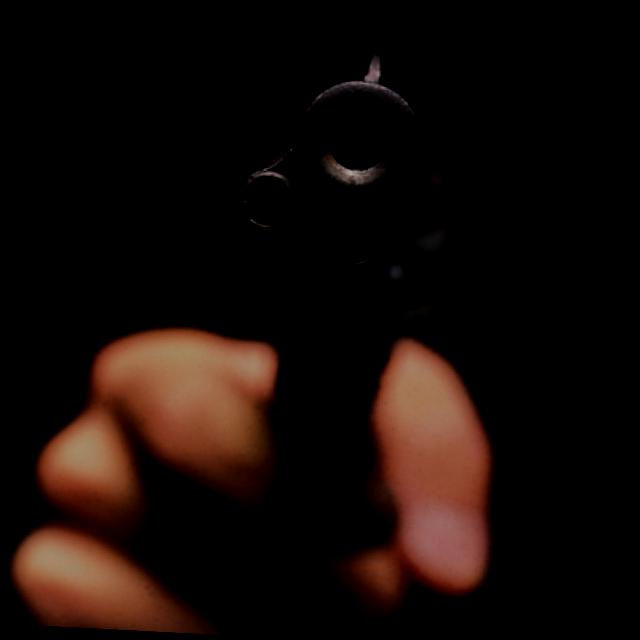handgun: (207, 39, 489, 556)
